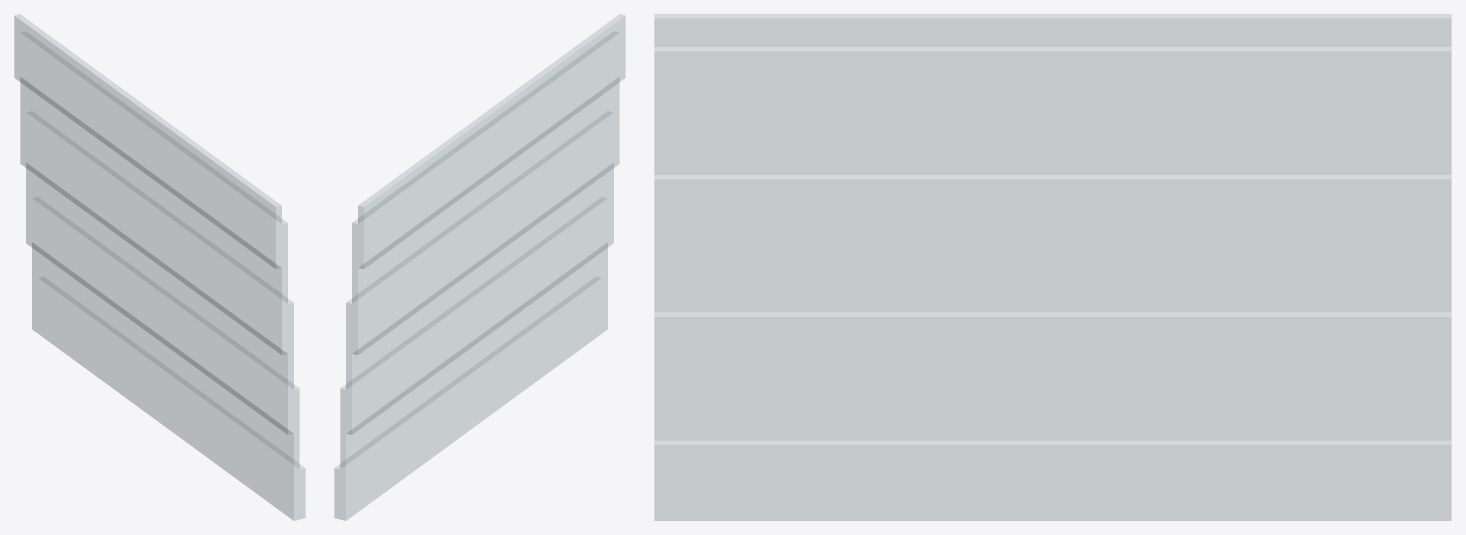
File: articulated_bus_windscreen.glb
The picture shows the model from 3 angles, left to right: view 1: azimuth 30°, elevation 25°; view 2: azimuth 150°, elevation 25°; view 3: azimuth 270°, elevation 25°; orthographic projection. The views are drawn at different scales.
Visible parts, largest first — view 1: body:compound; view 2: body:compound; view 3: body:compound.
Part boxes in pixels (x1,y1,x2,y2): body:compound: (14, 14, 305, 520); body:compound: (334, 14, 625, 520); body:compound: (654, 14, 1451, 520).
Bounding box in the file's own units: 0.1562 × 1.59 × 2.38.
